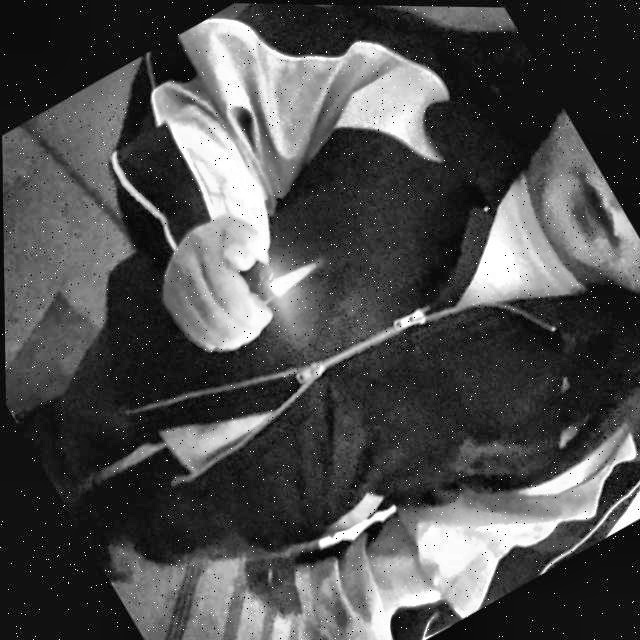Fire: (267, 252, 326, 297)
